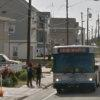Bus: (45, 41, 97, 94)
